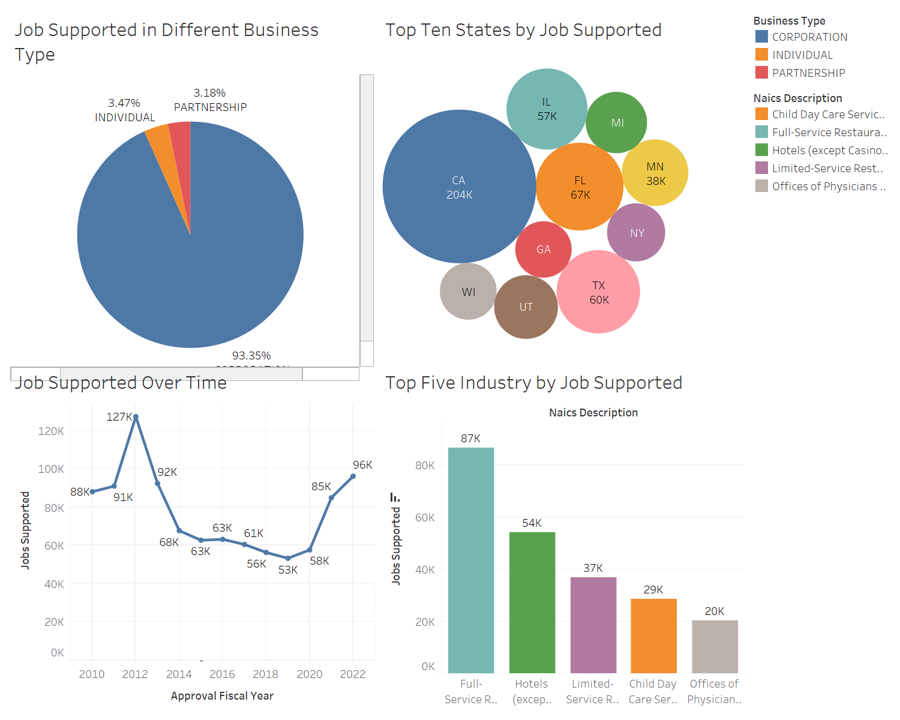

The page's visual inventory and layout, read from the dashboard file:
{"tool":"tableau","page":{"name":"Job Support and Impact Dashboard","canvas":[1000,800],"ordinal":2},"visuals":[{"type":"worksheet","title":"Job Supported in Different Business Type","mark":"Pie","box":[8,8,412,392]},{"type":"worksheet","title":"Top Ten States by Job Supported","mark":"Circle","box":[420,8,412,392]},{"type":"legend","title":"Job Supported in Different Business Type","param":"[federated.0yx7p9v0747fy216yllo80zm79sv].[none:BusinessType:nk]","box":[832,8,160,86]},{"type":"legend","title":"Top Five Industry by Job Supported","param":"[federated.0yx7p9v0747fy216yllo80zm79sv].[none:NaicsDescription:nk]","box":[832,94,160,126]},{"type":"worksheet","title":"Job Supported Over Time","mark":"Automatic","rows":["JobsSupported"],"cols":["ApprovalFiscalYear"],"box":[8,400,412,392]},{"type":"worksheet","title":"Top Five Industry by Job Supported","mark":"Automatic","rows":["JobsSupported"],"cols":["NaicsDescription"],"box":[420,400,412,392]}]}

Visuals, with their boxes in screenshot pixels (x1, y1, x2, y2), scaled from the page's 1000x800 canvas onto the 900x720 screenshot:
"Job Supported in Different Business Type" worksheet (Pie marks): [7, 7, 378, 360]
"Top Ten States by Job Supported" worksheet (Circle marks): [378, 7, 749, 360]
"Job Supported in Different Business Type" legend: [749, 7, 893, 85]
"Top Five Industry by Job Supported" legend: [749, 85, 893, 198]
"Job Supported Over Time" worksheet: [7, 360, 378, 713]
"Top Five Industry by Job Supported" worksheet: [378, 360, 749, 713]
